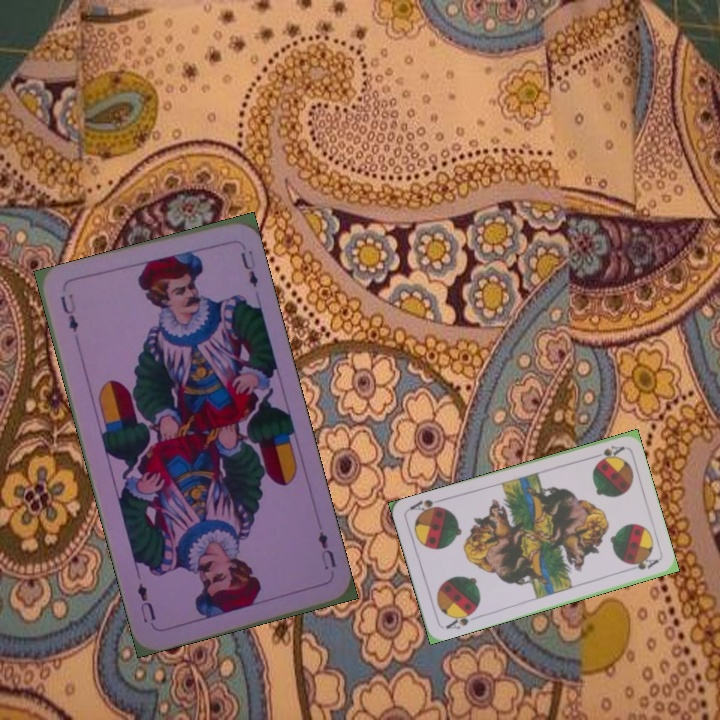EU: (314, 527, 339, 573), (56, 289, 81, 335)
SA: (441, 606, 478, 632), (587, 441, 627, 464)
